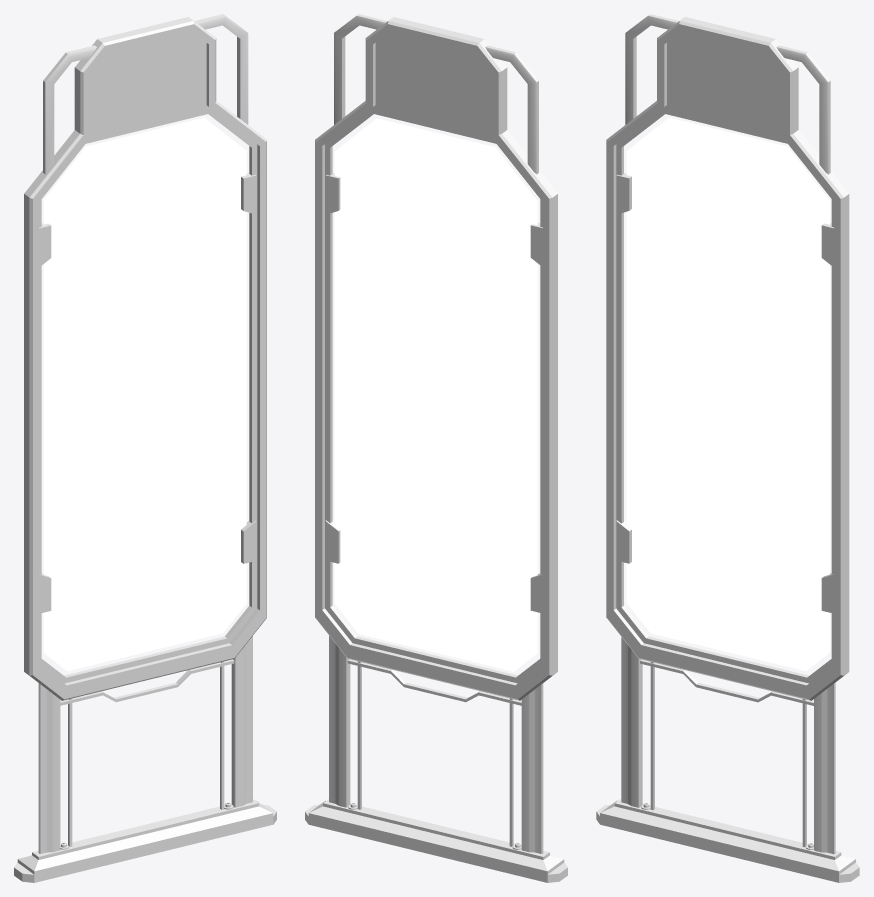
The model's file is KB3D_FTW_PropSign_B_grp.glb.
The picture shows the model from 3 angles, left to right: view 1: azimuth 30°, elevation 25°; view 2: azimuth 150°, elevation 25°; view 3: azimuth 330°, elevation 25°; orthographic projection.
Visible parts, largest first — view 1: KB3D_FTW_PropSign_B_Main; view 2: KB3D_FTW_PropSign_B_Main; view 3: KB3D_FTW_PropSign_B_Main.
Boxes of the visible parts, x1,y1,x2,y2 form: KB3D_FTW_PropSign_B_Main: (14,14,276,882); KB3D_FTW_PropSign_B_Main: (305,14,567,882); KB3D_FTW_PropSign_B_Main: (596,14,859,882).
Bounding box in the file's own units: 0.7607 × 2.34 × 0.0877.
Materials: 5 (1 with a texture image).
